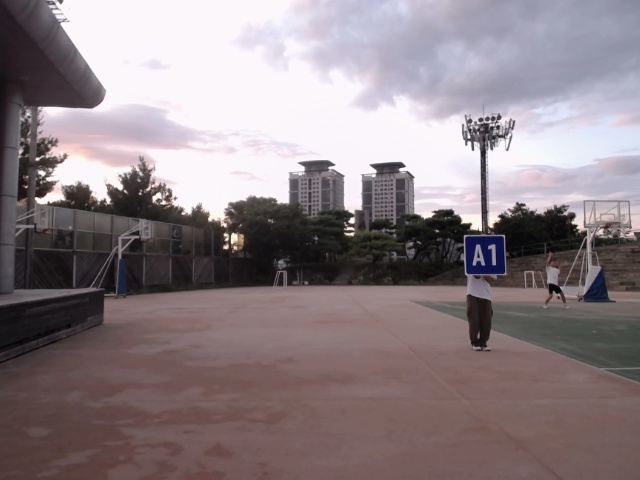delivery_a1: (464, 235, 506, 275)
